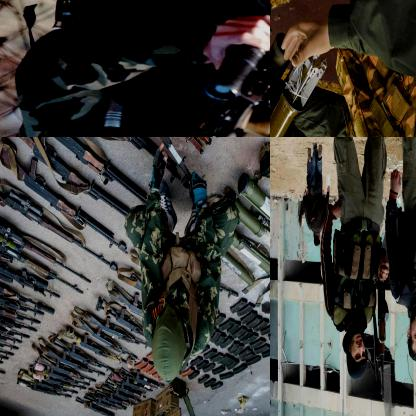knife: (146, 137, 198, 189), (168, 137, 204, 158)
rifle: (0, 137, 127, 253), (178, 0, 269, 136), (0, 169, 105, 263), (3, 137, 128, 214), (16, 137, 150, 206), (0, 195, 93, 283), (35, 137, 180, 183), (0, 216, 84, 295), (0, 241, 62, 301), (0, 257, 55, 314), (79, 306, 147, 349), (370, 262, 389, 402), (74, 317, 134, 359), (67, 328, 124, 362), (39, 341, 97, 373), (0, 275, 45, 316), (50, 335, 100, 366), (0, 290, 42, 325), (0, 300, 41, 333)
